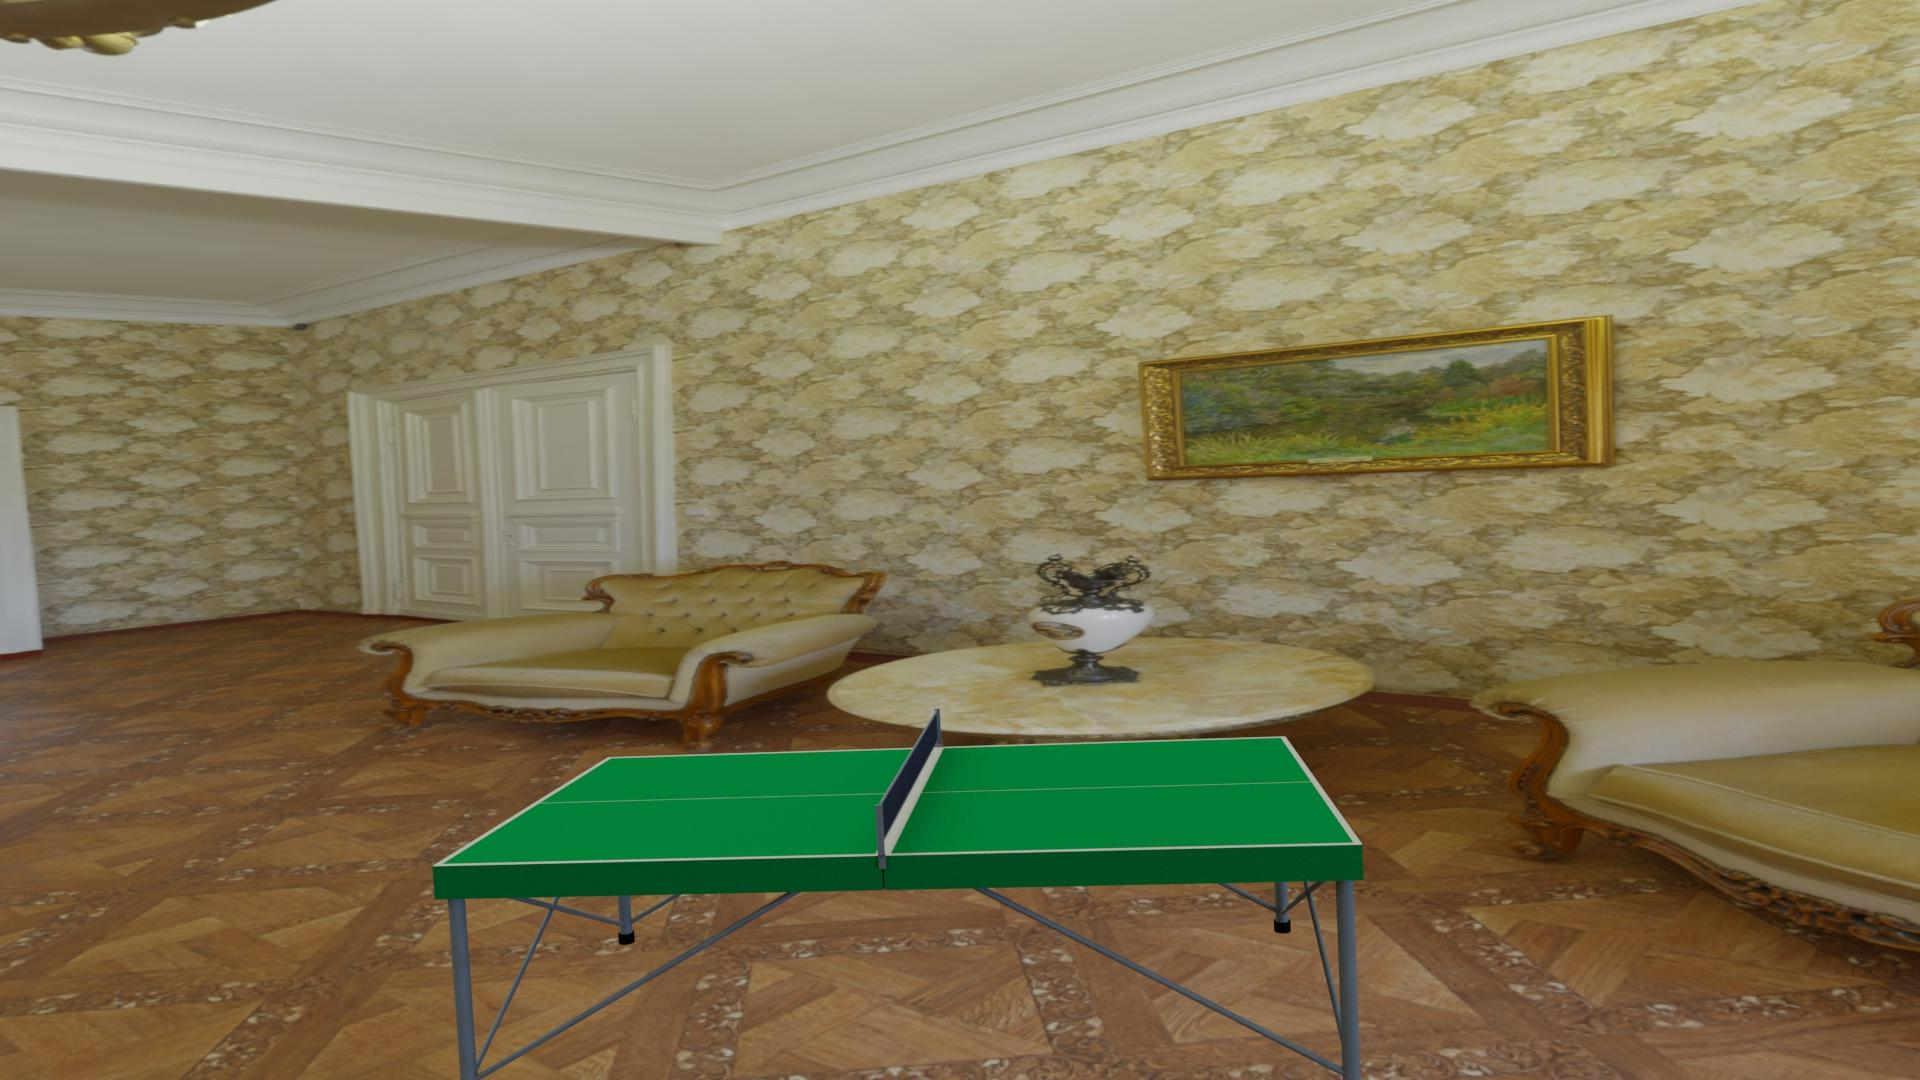table: (442, 737, 1354, 864)
